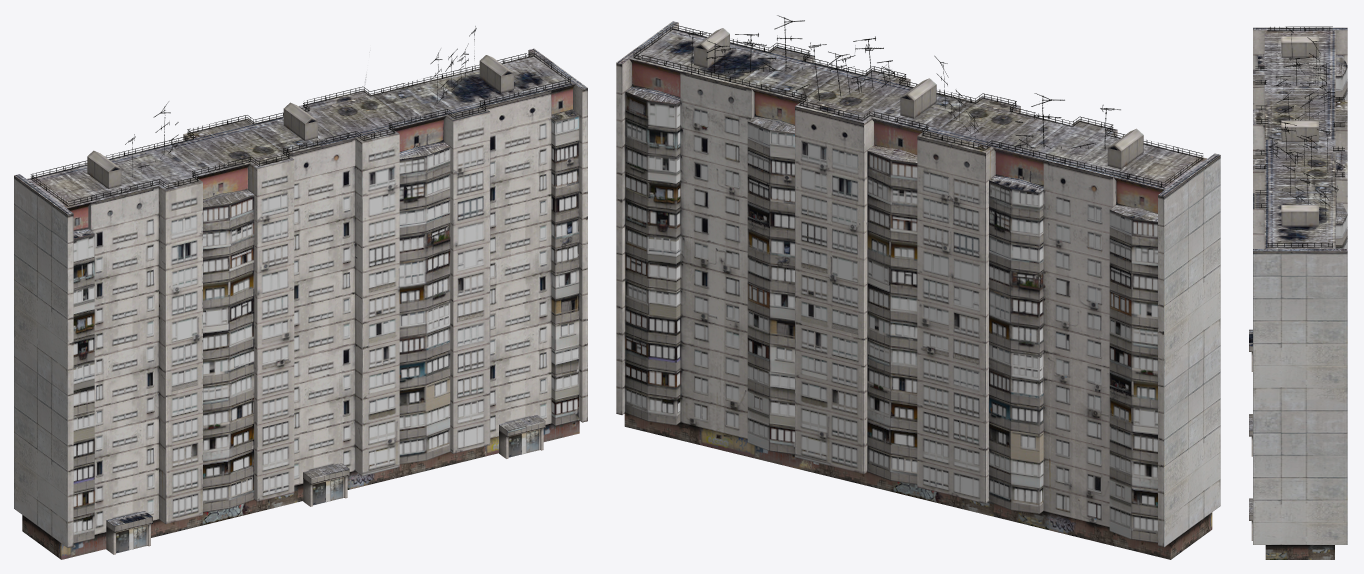
The model's file is panel_block.glb.
3 views of the same model, side by side, from view 1: azimuth 30°, elevation 25°; view 2: azimuth 150°, elevation 25°; view 3: azimuth 270°, elevation 25° (orthographic). The views are drawn at different scales.
Visible parts, largest first — view 1: 12stbuilding1_LOD1; view 2: 12stbuilding1_LOD1; view 3: 12stbuilding1_LOD1.
Part boxes in pixels (<box>): 12stbuilding1_LOD1: <box>14,26,587,559</box>; 12stbuilding1_LOD1: <box>616,15,1220,559</box>; 12stbuilding1_LOD1: <box>1249,26,1347,559</box>.
Size of the model in its own units: 1.95 by 1.45 by 0.3717.
2 materials, 2 textured.
